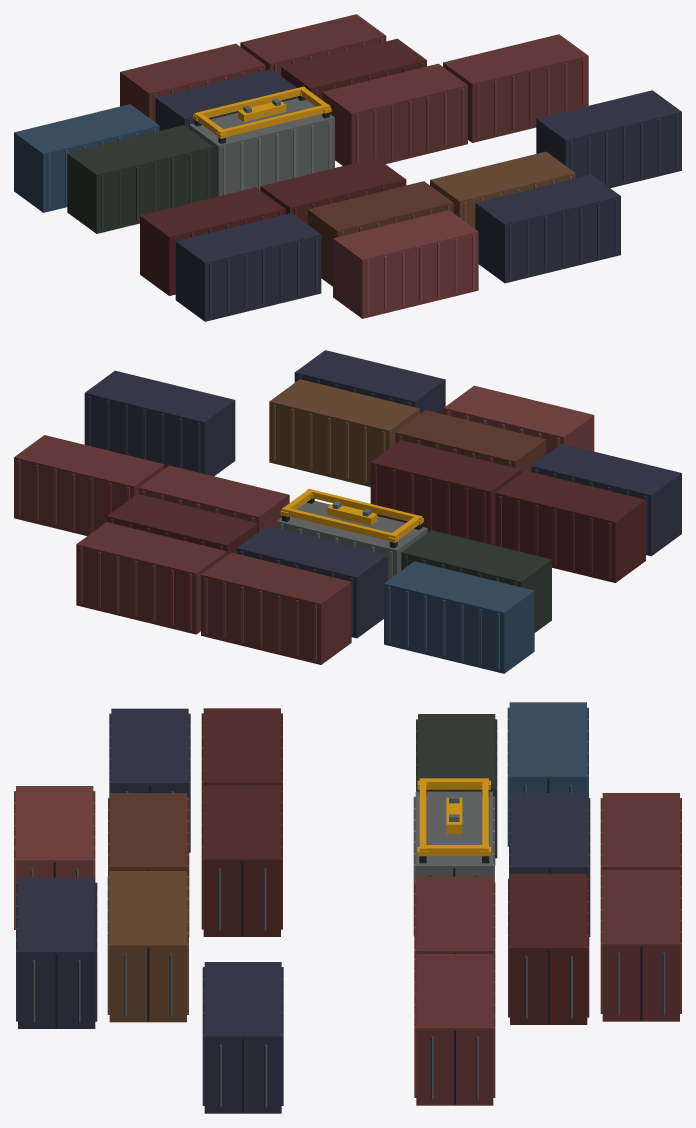
The model's file is SeaportSystem-01-Container-01-20Footer-4-04.glb.
3 renders of one model, top to bottom at view 1: azimuth 30°, elevation 25°; view 2: azimuth 150°, elevation 25°; view 3: azimuth 270°, elevation 25°, orthographic. The views are drawn at different scales.
Parts seen in each view (by area): view 1: SeaportSystem-01-Container-01-20Footer-4-04; view 2: SeaportSystem-01-Container-01-20Footer-4-04; view 3: SeaportSystem-01-Container-01-20Footer-4-04.
Boxes of the visible parts, x1,y1,x2,y2 form: SeaportSystem-01-Container-01-20Footer-4-04: (14,14,681,321); SeaportSystem-01-Container-01-20Footer-4-04: (14,350,681,673); SeaportSystem-01-Container-01-20Footer-4-04: (14,702,681,1113).
Bounding box in the file's own units: 59.48 × 8.25 × 50.14.
